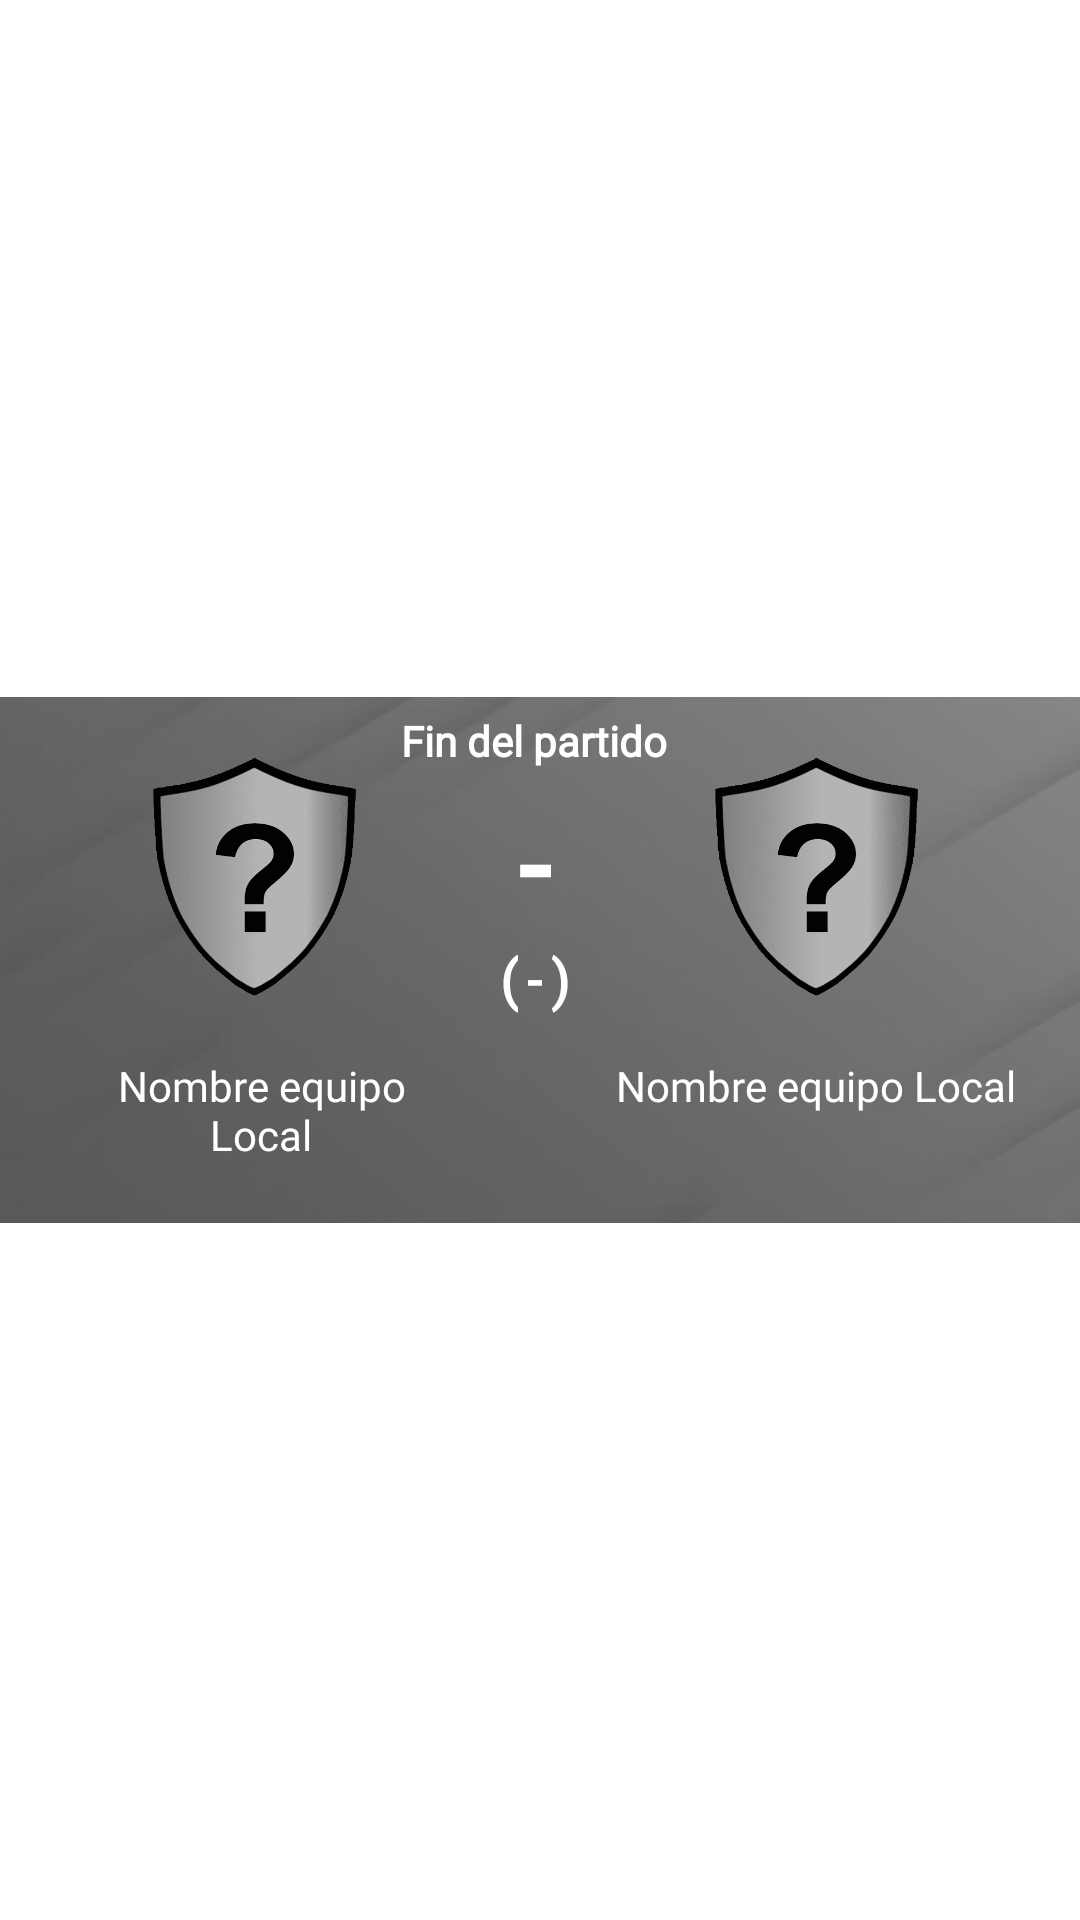

Where to tap for icons on this 1080w x 1920h app screen, as (x=x, y=y):
escudo: (x=254, y=876), (x=816, y=877)
